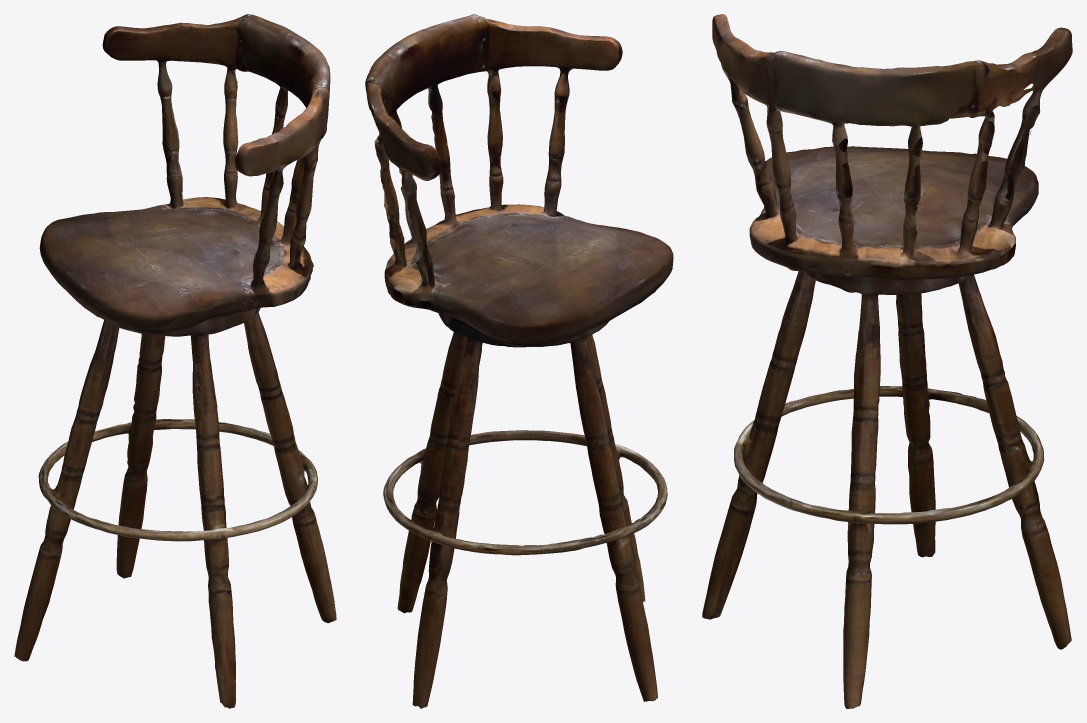
The model's file is chair.glb.
3 renders of one model, left to right at view 1: azimuth 30°, elevation 25°; view 2: azimuth 150°, elevation 25°; view 3: azimuth 270°, elevation 25°, orthographic. The views are drawn at different scales.
Visible parts, largest first — view 1: unnamed_n3d; view 2: unnamed_n3d; view 3: unnamed_n3d.
Boxes of the visible parts, bbox=[...] form: unnamed_n3d: bbox=[14, 14, 336, 708]; unnamed_n3d: bbox=[365, 14, 673, 708]; unnamed_n3d: bbox=[702, 14, 1072, 708].
Size of the model in its own units: 1.92 by 3.65 by 1.93.
12 materials, 12 textured.
